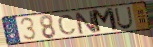3: (20, 16, 38, 41)
8: (39, 14, 57, 39)
C: (57, 14, 78, 36)
M: (91, 7, 120, 35)
N: (73, 10, 99, 35)
U: (113, 6, 134, 31)
